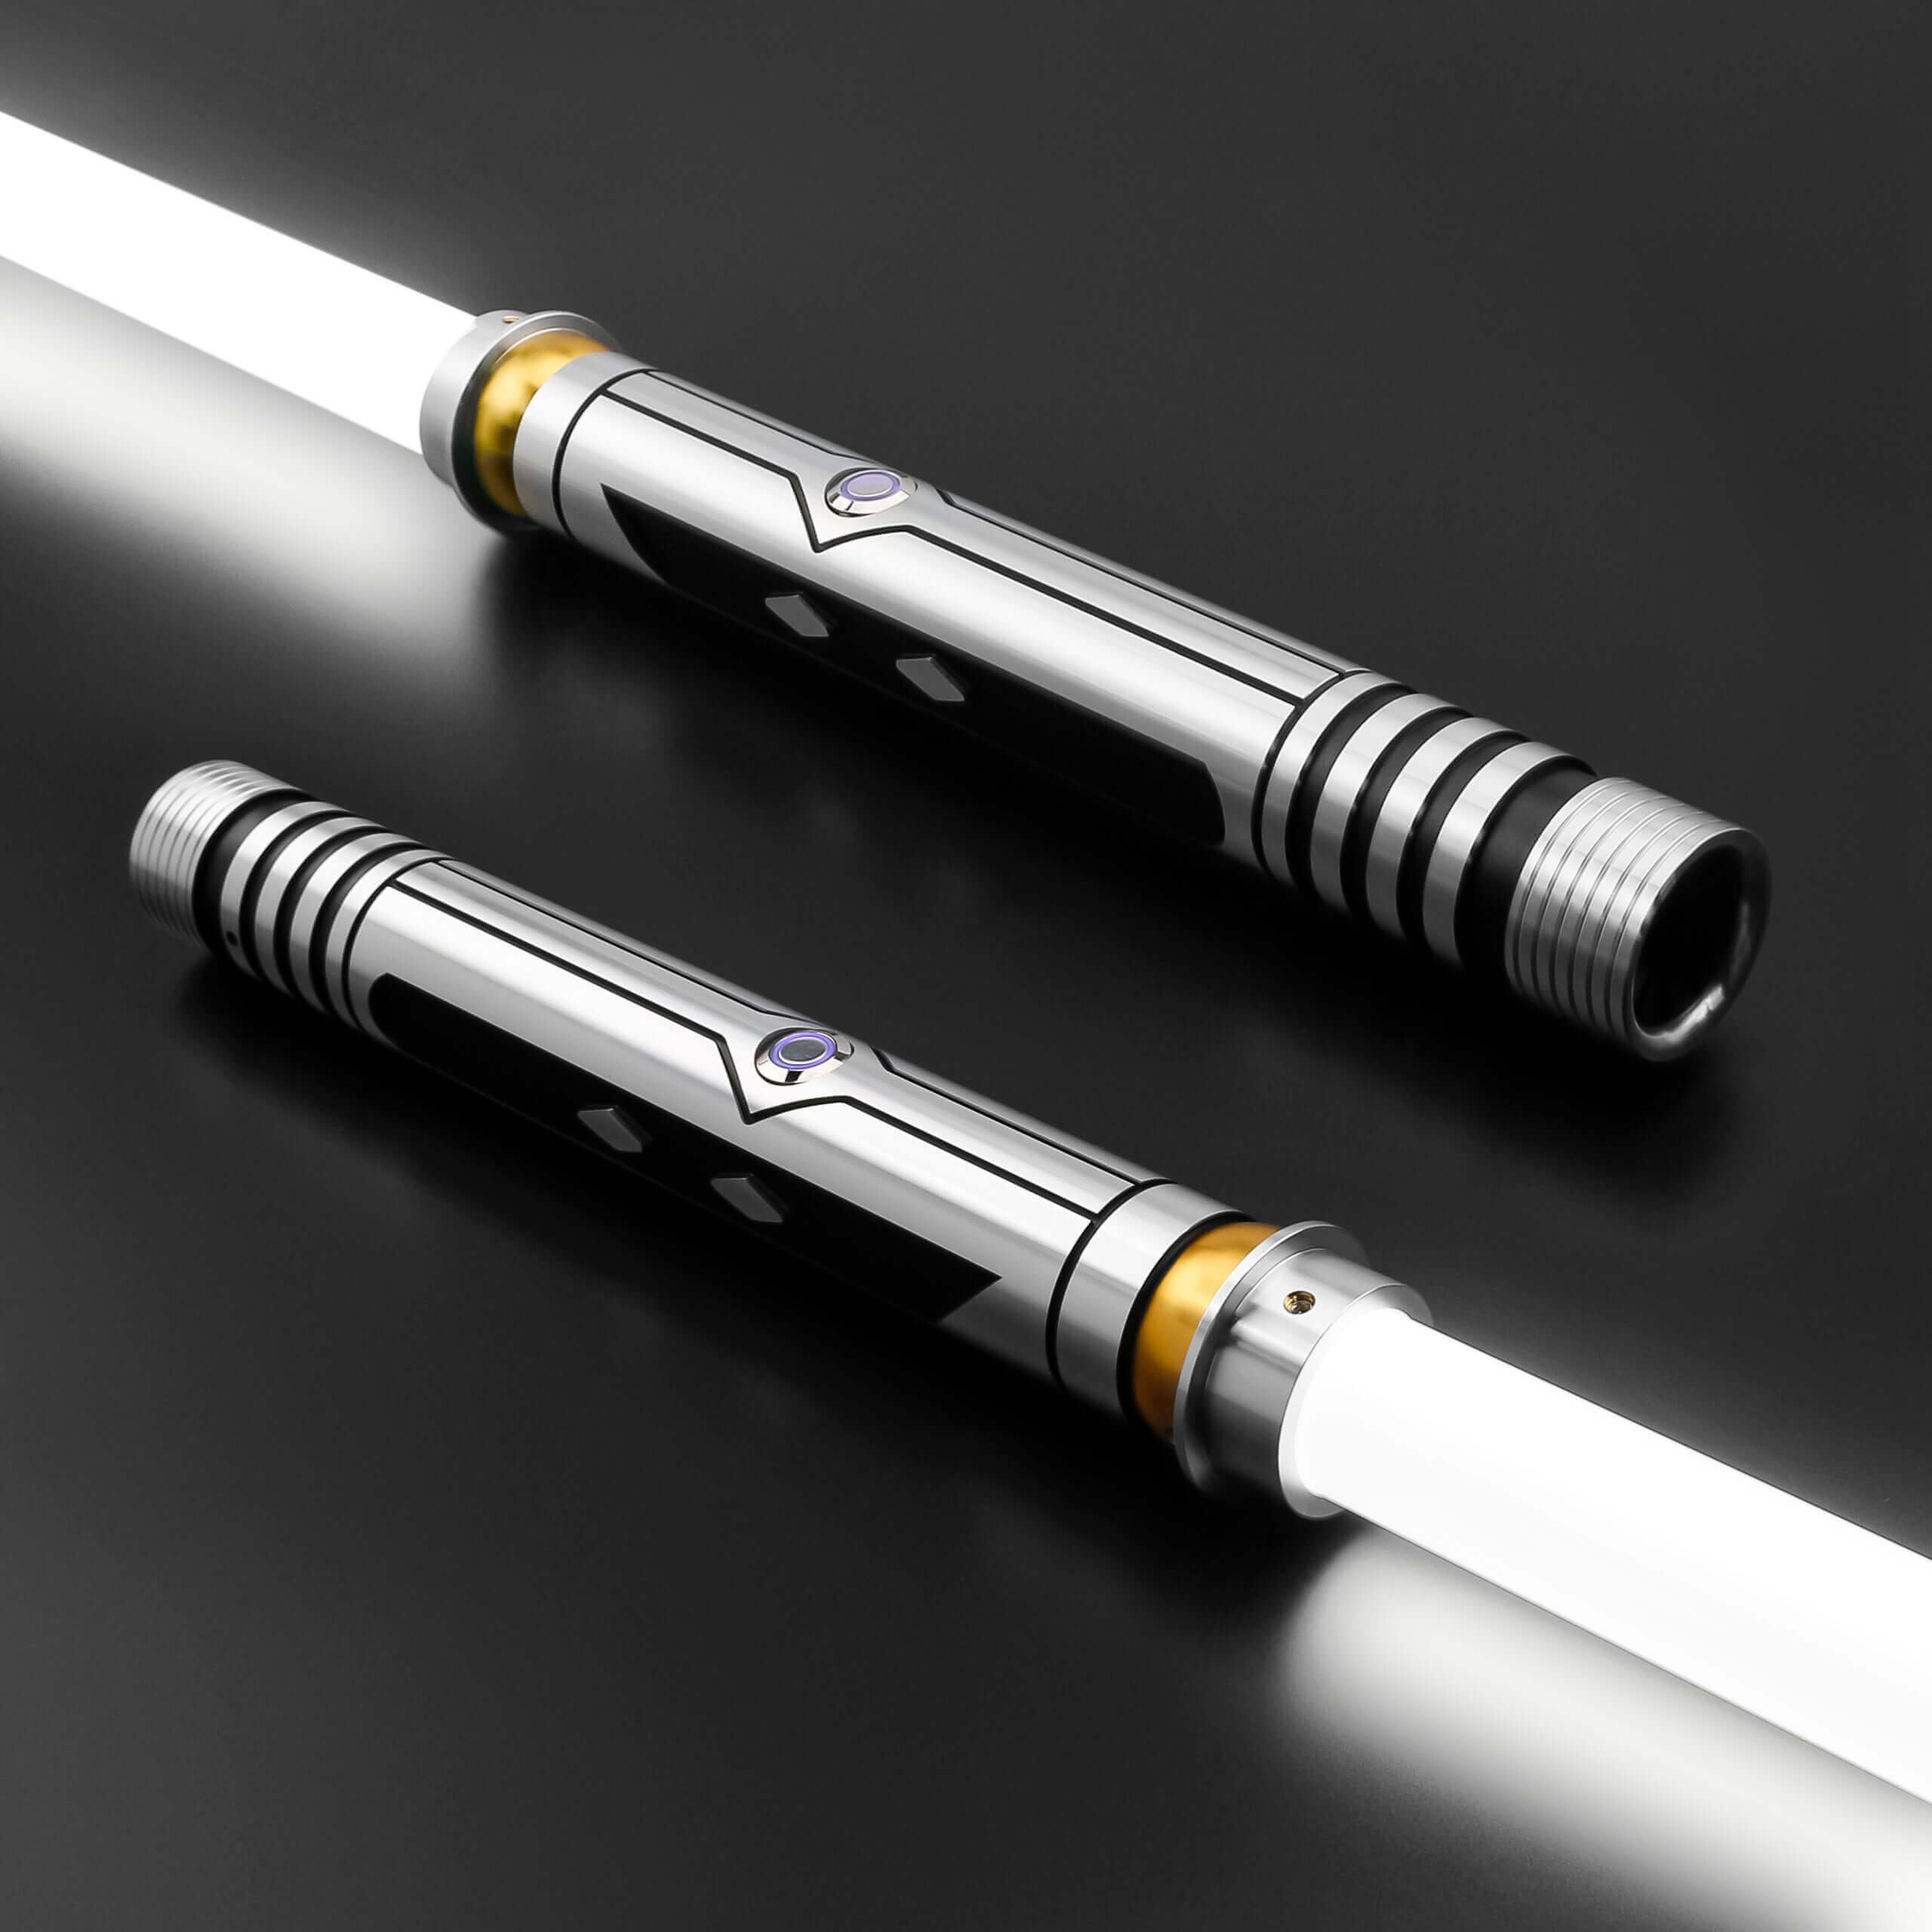lightsaber: (106, 690, 1858, 1737), (124, 9, 1695, 1070)
